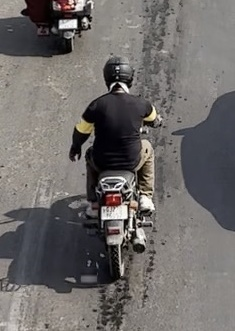BikeWithRider: (63, 50, 167, 283)
Helmet: (97, 50, 139, 95)
